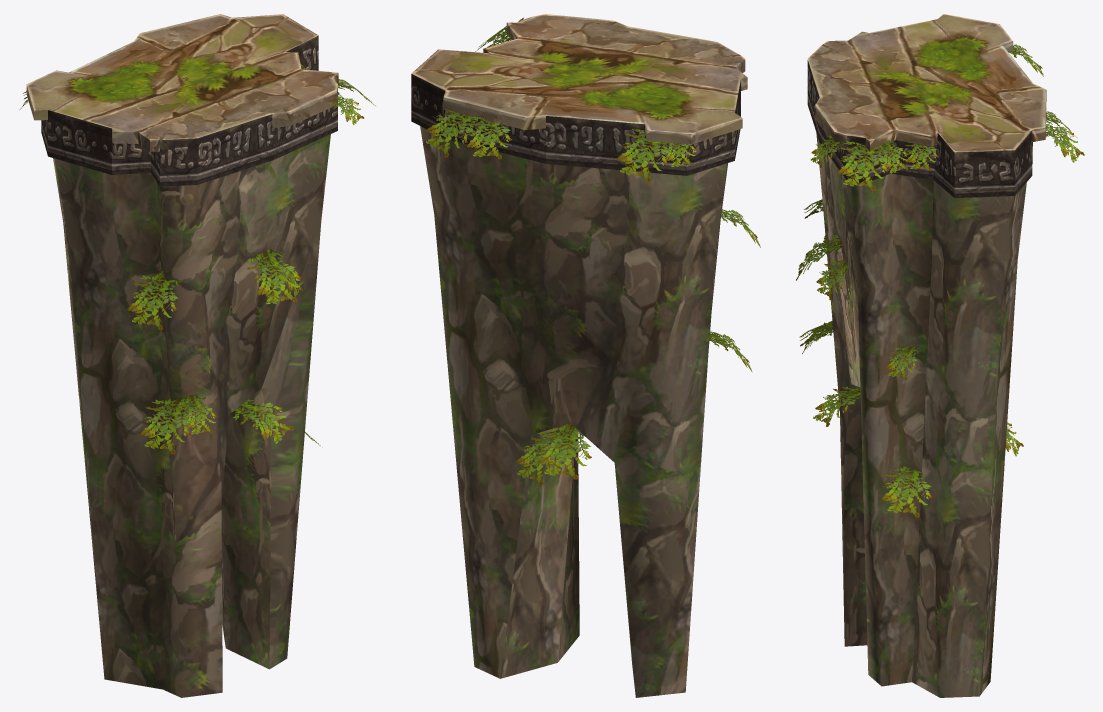
The model's file is gjs_yanti03.FBX.
3 renders of one model, left to right at view 1: azimuth 30°, elevation 25°; view 2: azimuth 150°, elevation 25°; view 3: azimuth 270°, elevation 25°, orthographic. The views are drawn at different scales.
Parts seen in each view (by area): view 1: Box03, 对象09, Plane92, Plane91, Plane78, Plane77, Plane93; view 2: Box03, 对象09, Plane80, Plane44, Plane81, Plane46, Plane47; view 3: Box03, 对象09, Plane75, Plane40, Plane77, Plane79, Plane76, Plane78, Plane46, Plane41, Plane42, Plane45.
Boxes of the visible parts, <box> form: Box03: <box>53,134,330,697</box>; 对象09: <box>26,14,338,186</box>; Plane92: <box>140,397,196,454</box>; Plane91: <box>127,270,184,330</box>; Plane78: <box>246,249,301,304</box>; Plane77: <box>233,397,293,443</box>; Plane93: <box>178,395,216,434</box>; Box03: <box>420,126,727,697</box>; 对象09: <box>411,14,747,175</box>; Plane80: <box>538,423,591,479</box>; Plane44: <box>616,129,670,182</box>; Plane81: <box>515,430,572,486</box>; Plane46: <box>426,105,481,157</box>; Plane47: <box>466,117,512,159</box>; Box03: <box>816,133,1026,697</box>; 对象09: <box>807,14,1046,197</box>; Plane75: <box>881,466,932,517</box>; Plane40: <box>837,141,889,190</box>; Plane77: <box>813,386,860,426</box>; Plane79: <box>816,259,849,300</box>; Plane76: <box>886,346,921,380</box>; Plane78: <box>796,234,843,280</box>; Plane46: <box>1043,122,1084,162</box>; Plane41: <box>873,140,908,173</box>; Plane42: <box>905,141,938,170</box>; Plane45: <box>810,135,847,167</box>.
Size of the model in its own units: 1158 by 2144 by 1021.
